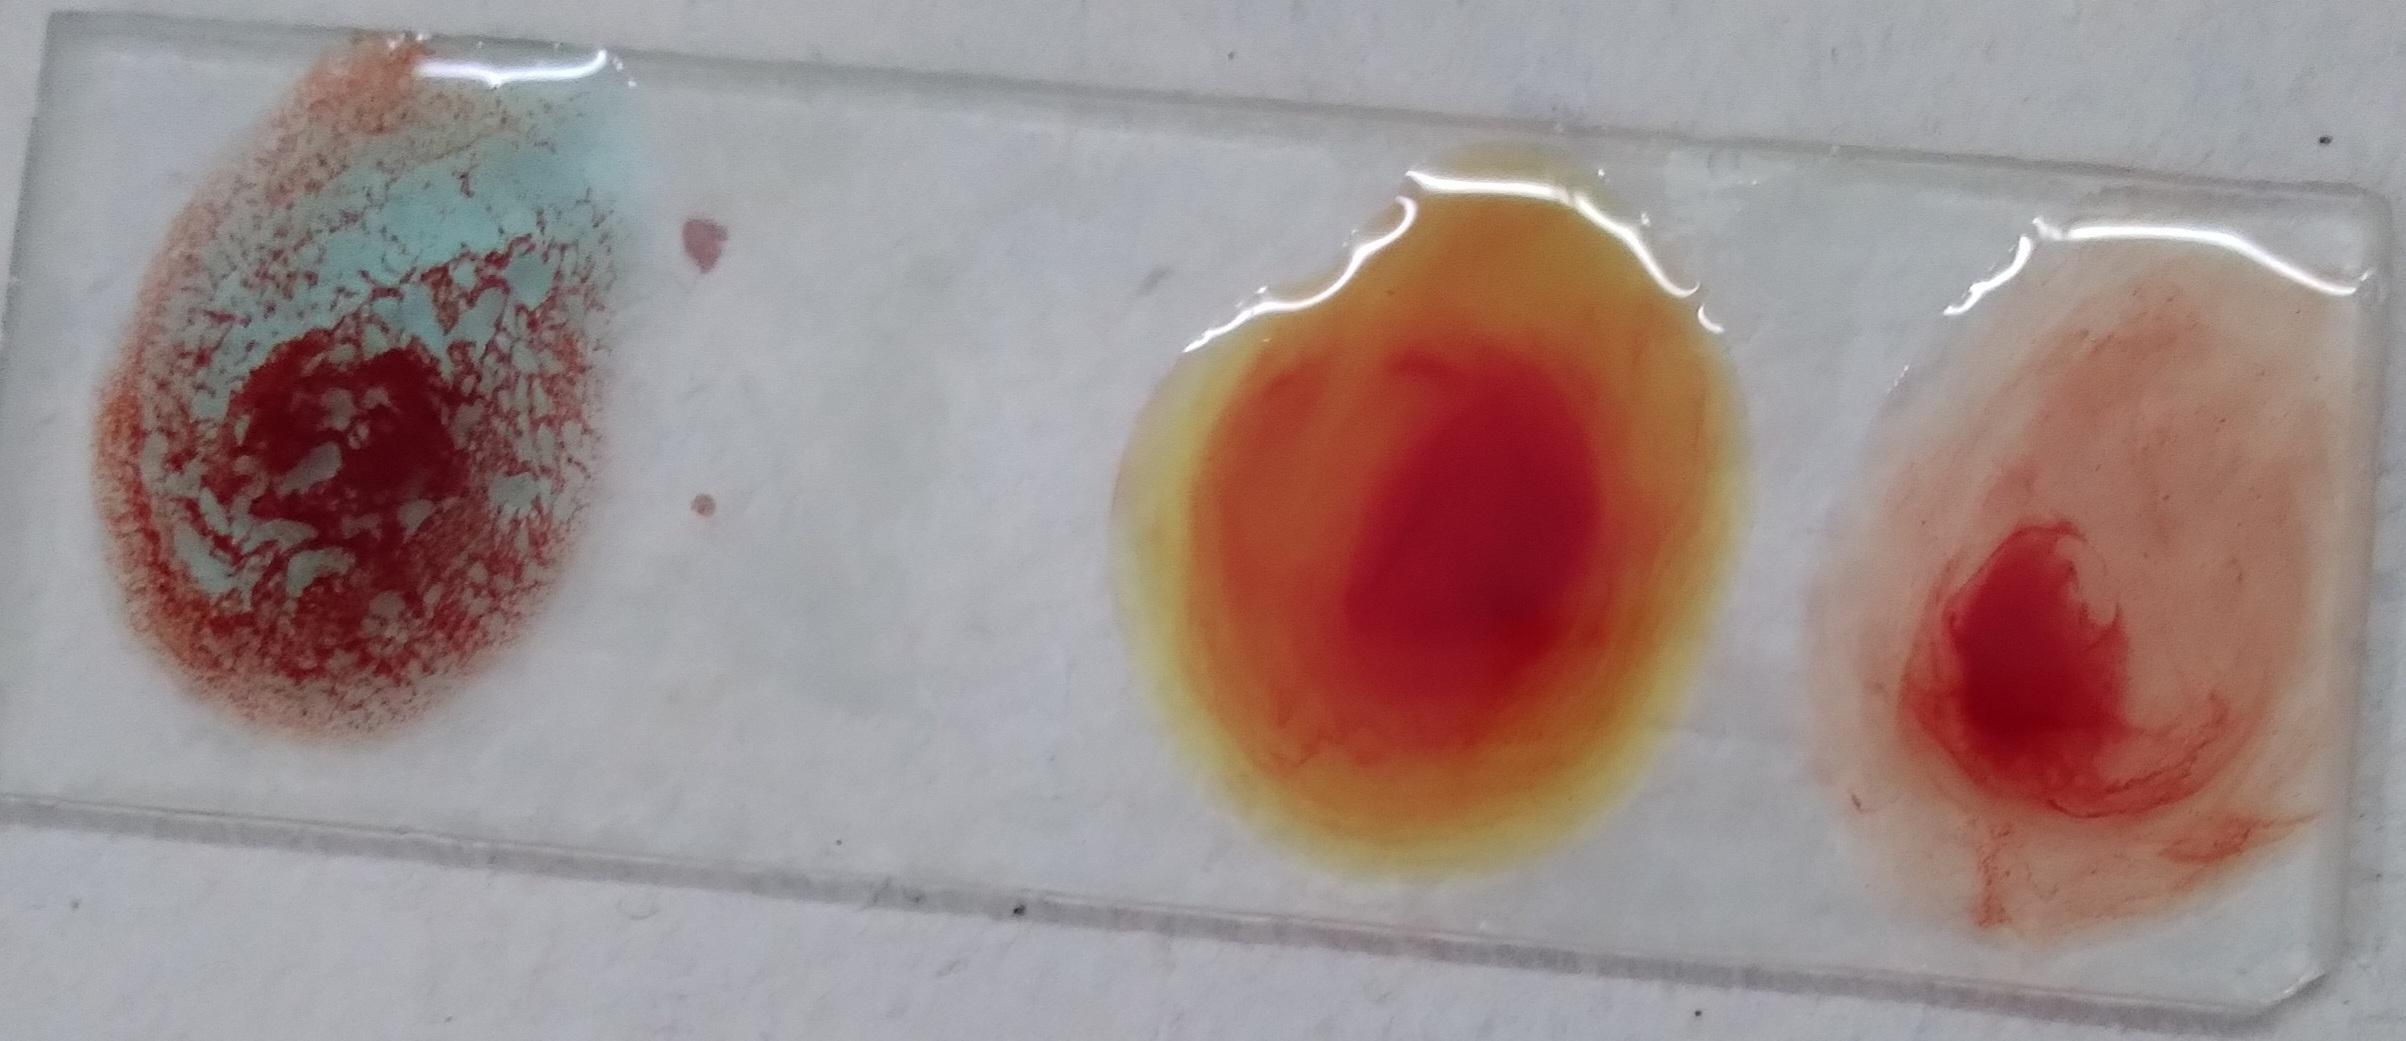A: (1794, 301, 2300, 992)
